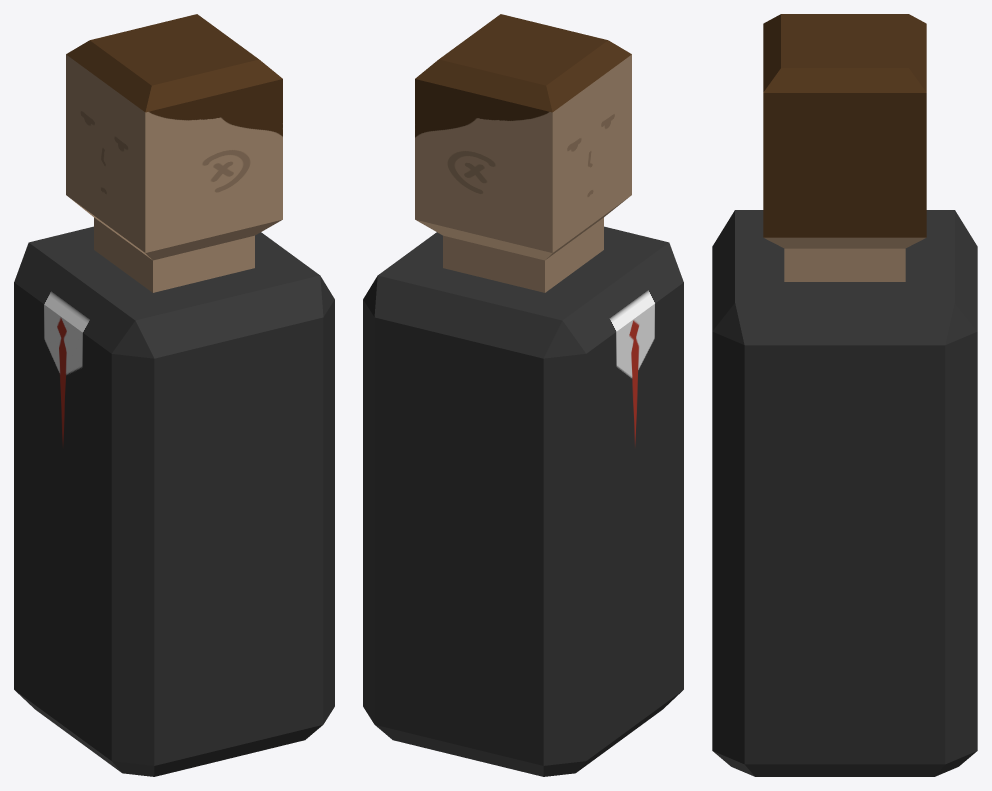
Rendered from judge.glb.
3 views of the same model, side by side, from view 1: azimuth 30°, elevation 25°; view 2: azimuth 150°, elevation 25°; view 3: azimuth 270°, elevation 25° (orthographic). The views are drawn at different scales.
Parts seen in each view (by area): view 1: Cube.002; view 2: Cube.002; view 3: Cube.002.
Boxes of the visible parts, bbox=[...] form: Cube.002: bbox=[14, 14, 334, 776]; Cube.002: bbox=[363, 14, 683, 776]; Cube.002: bbox=[712, 14, 977, 776].
Size of the model in its own units: 0.6964 by 1.99 by 0.6964.
1 material, 1 textured.
